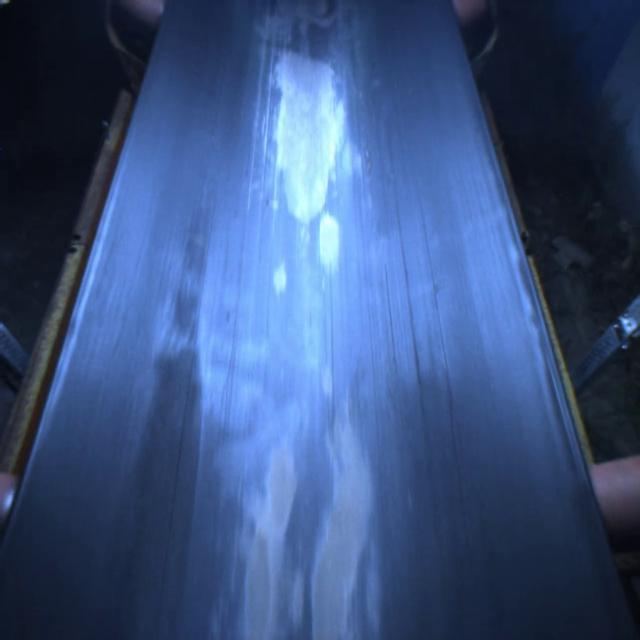Wear: (202, 406, 412, 640), (248, 0, 383, 301)
